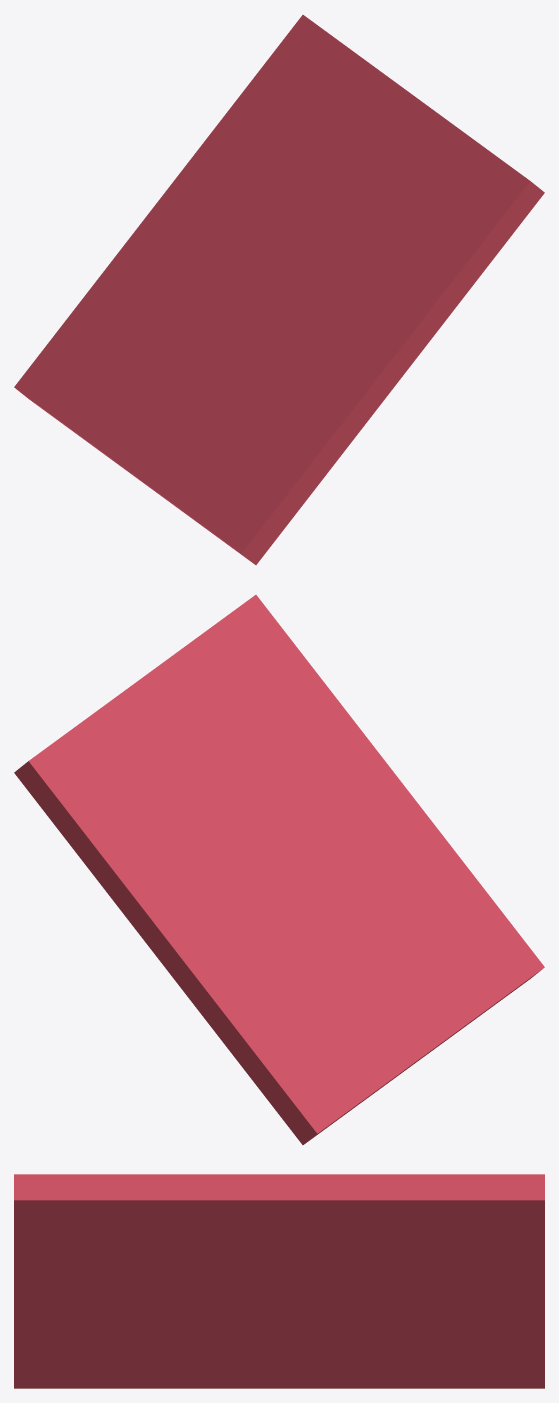
File: roof2.glb
3 views of the same model, one above another, from view 1: azimuth 30°, elevation 25°; view 2: azimuth 150°, elevation 25°; view 3: azimuth 270°, elevation 25° (orthographic). The views are drawn at different scales.
Visible parts, largest first — view 1: Mesh_Mesh_head_geo.001_lambert2SG.001; view 2: Mesh_Mesh_head_geo.001_lambert2SG.001; view 3: Mesh_Mesh_head_geo.001_lambert2SG.001.
Part boxes in pixels (x1,y1,x2,y2): Mesh_Mesh_head_geo.001_lambert2SG.001: [14, 15, 544, 564]; Mesh_Mesh_head_geo.001_lambert2SG.001: [14, 595, 544, 1144]; Mesh_Mesh_head_geo.001_lambert2SG.001: [14, 1174, 544, 1388].
Bounding box in the file's own units: 0.1478 × 0.1478 × 0.192.
